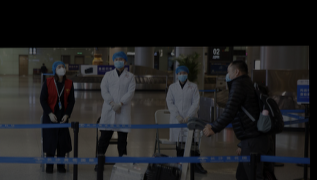with_mask: (113, 56, 125, 69), (224, 67, 234, 82), (55, 64, 67, 76), (177, 71, 188, 83)
